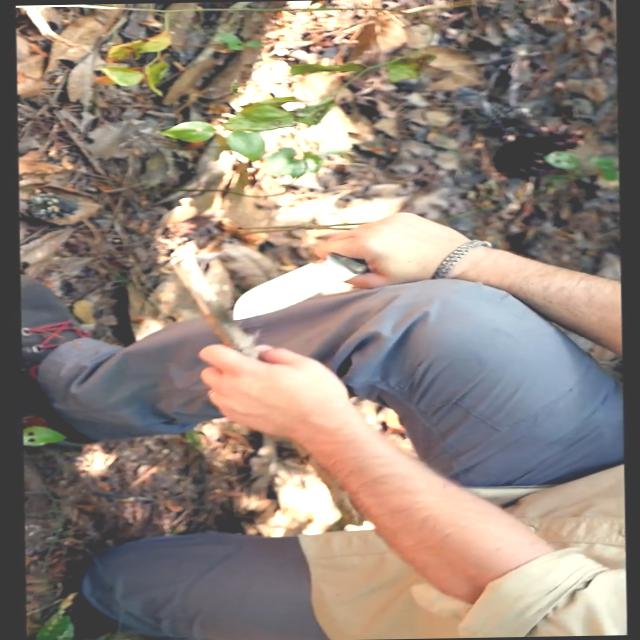knife: (224, 210, 418, 322)
